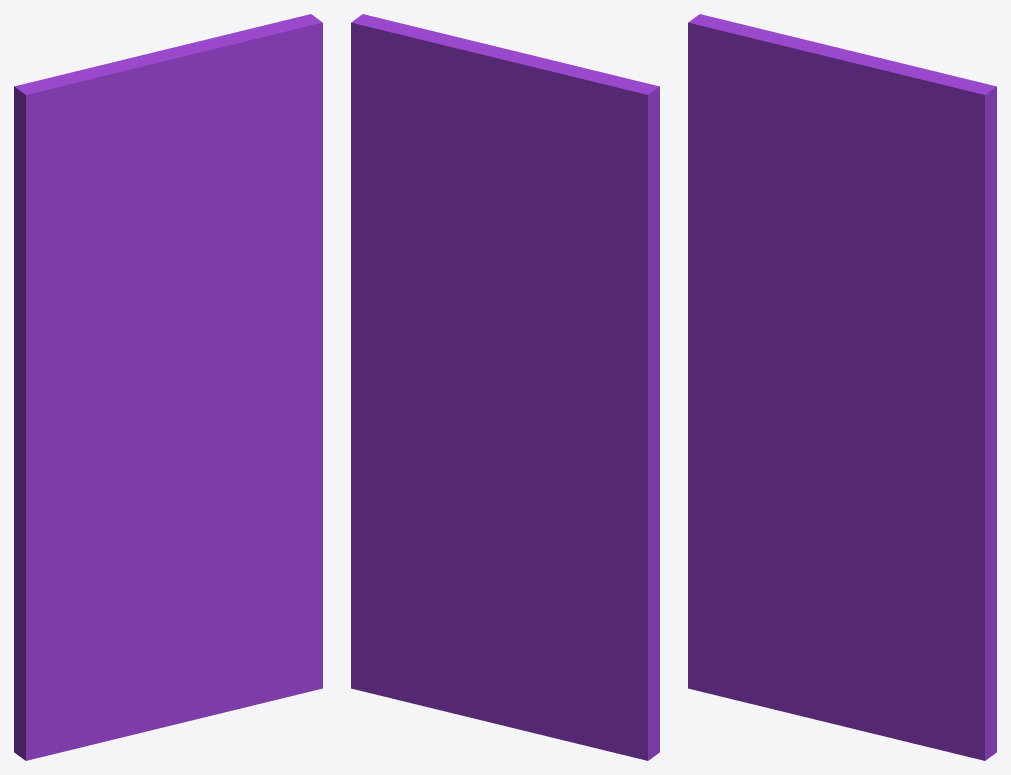
Rendered from Glass_63_chunks.fbx.
The picture shows the model from 3 angles, left to right: view 1: azimuth 30°, elevation 25°; view 2: azimuth 150°, elevation 25°; view 3: azimuth 330°, elevation 25°; orthographic projection.
Parts seen in each view (by area): view 1: Glass_63_0, Glass_63_2, Glass_63_1, Glass_63_6, Glass_63_4, Glass_63_5, Glass_63_3; view 2: Glass_63_0, Glass_63_2, Glass_63_1, Glass_63_6, Glass_63_4, Glass_63_3; view 3: Glass_63_0, Glass_63_2, Glass_63_1, Glass_63_6, Glass_63_4, Glass_63_5, Glass_63_3.
Part boxes in pixels (x1,y1,x2,y2): Glass_63_0: (14, 400, 322, 760); Glass_63_2: (14, 36, 218, 384); Glass_63_1: (14, 359, 180, 704); Glass_63_6: (195, 14, 322, 251); Glass_63_4: (202, 233, 322, 420); Glass_63_5: (167, 238, 254, 402); Glass_63_3: (179, 170, 230, 285); Glass_63_0: (351, 385, 659, 760); Glass_63_2: (443, 41, 659, 406); Glass_63_1: (518, 351, 659, 695); Glass_63_6: (351, 14, 472, 245); Glass_63_4: (351, 226, 489, 405); Glass_63_3: (425, 177, 482, 334); Glass_63_0: (688, 403, 996, 760); Glass_63_2: (688, 14, 903, 370); Glass_63_1: (688, 287, 842, 631); Glass_63_6: (857, 64, 996, 305); Glass_63_4: (864, 290, 996, 492); Glass_63_5: (830, 265, 916, 415); Glass_63_3: (842, 181, 892, 288).
Bounding box in the file's own units: 398 × 852 × 27.2.
